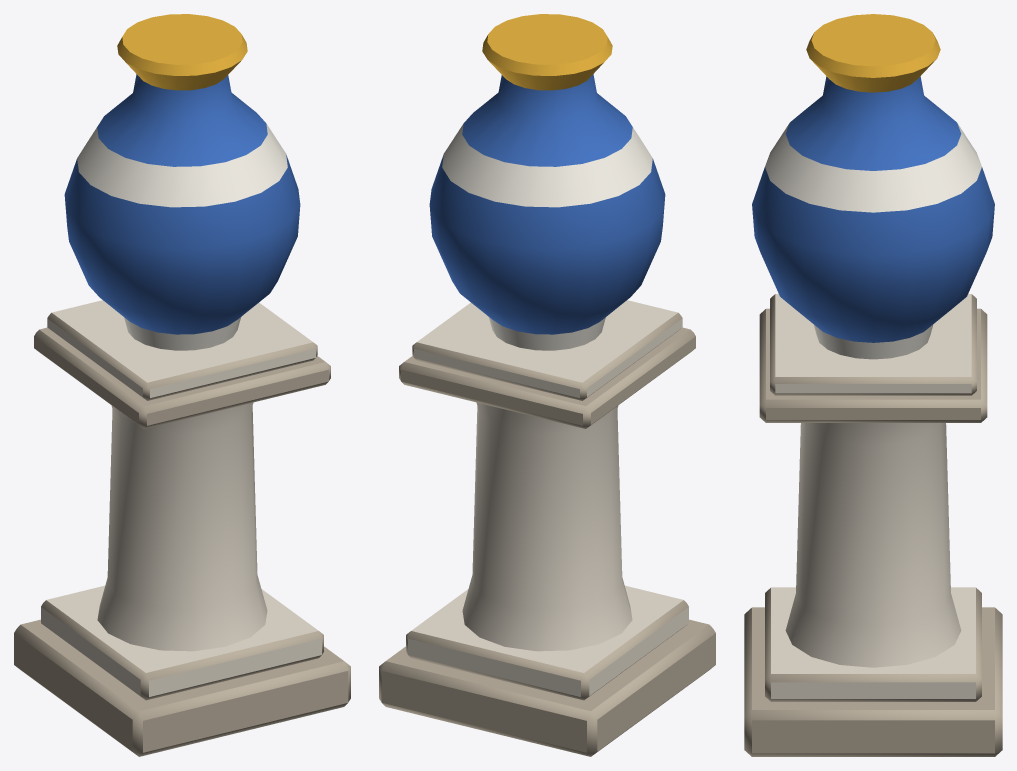
The model's file is hide_vase.glb.
3 renders of one model, left to right at view 1: azimuth 30°, elevation 25°; view 2: azimuth 150°, elevation 25°; view 3: azimuth 270°, elevation 25°, orthographic. The views are drawn at different scales.
Visible parts, largest first — view 1: hide_vase; view 2: hide_vase; view 3: hide_vase.
Part boxes in pixels (box(x1,y1,x2,y2)): hide_vase: box(14, 14, 350, 756); hide_vase: box(379, 14, 715, 756); hide_vase: box(744, 14, 1002, 756).
Bounding box in the file's own units: 0.5 × 1.42 × 0.5.
